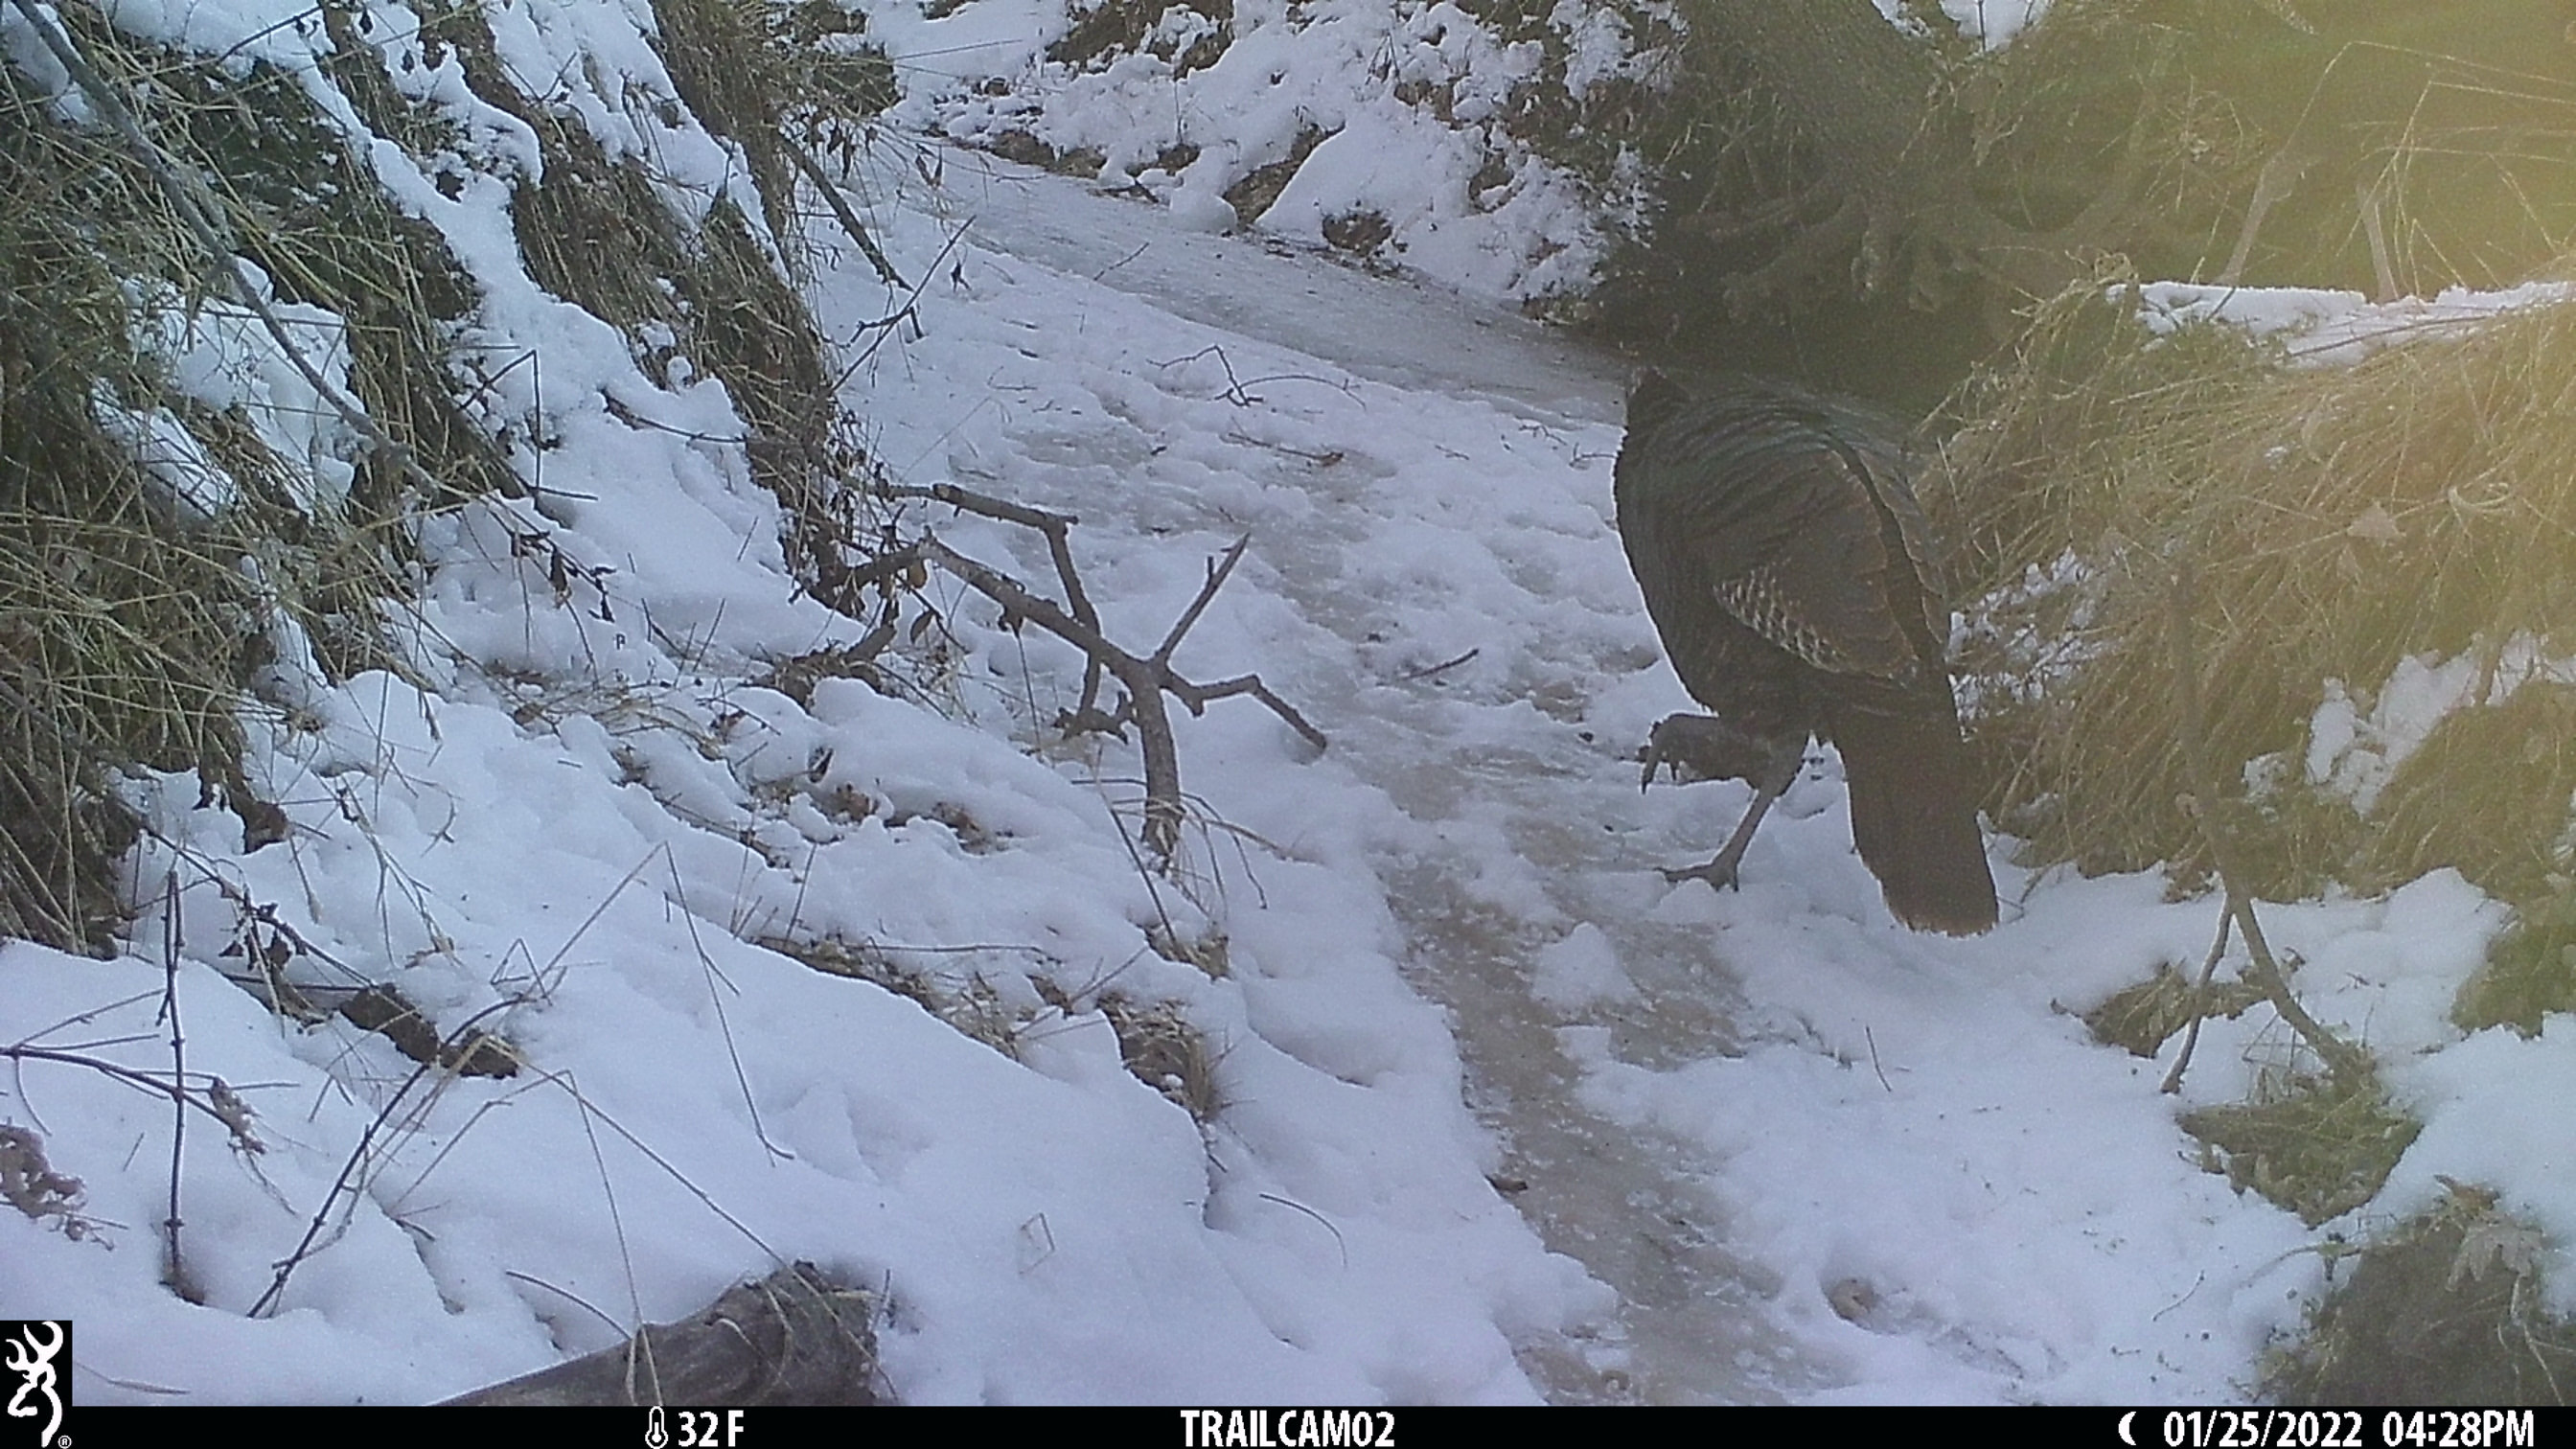Turkey: (1612, 363, 1999, 938)
